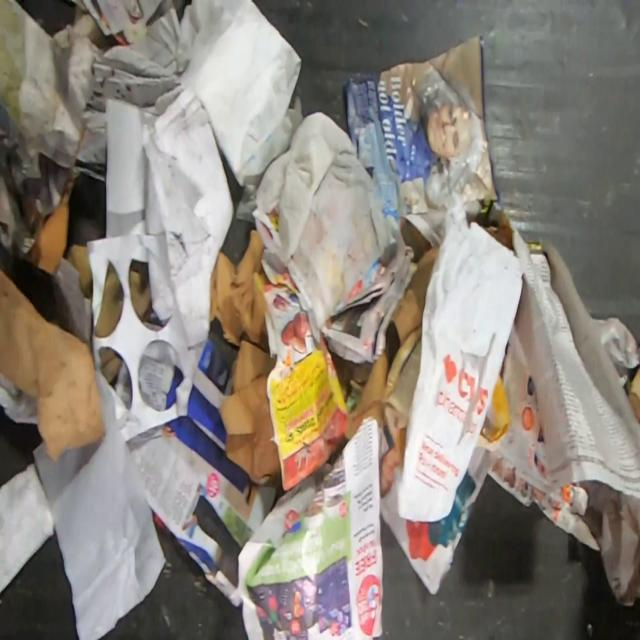cardboard: (0, 264, 106, 463)
